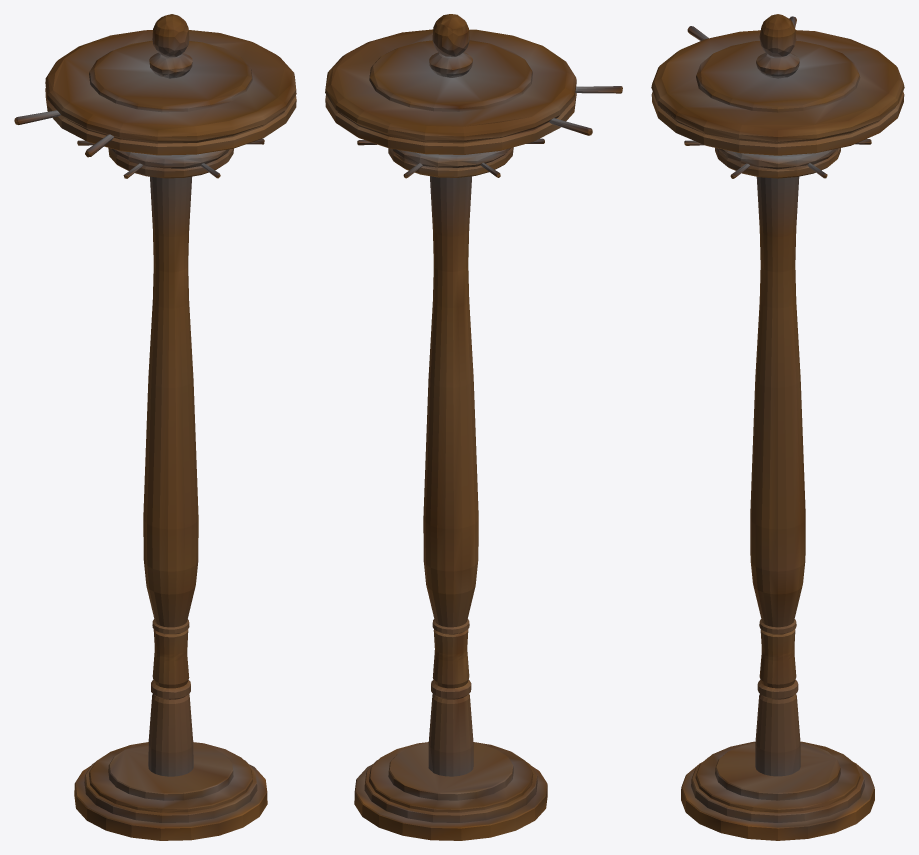
File: gyeongbokgung_manchunjeon_brushholder_7f4f5a8e.glb
3 views of the same model, side by side, from view 1: azimuth 30°, elevation 25°; view 2: azimuth 150°, elevation 25°; view 3: azimuth 270°, elevation 25° (orthographic).
Parts seen in each view (by area): view 1: sidestick_M_MCJ_BrushHolder_0; view 2: sidestick_M_MCJ_BrushHolder_0; view 3: sidestick_M_MCJ_BrushHolder_0.
Boxes of the visible parts, x1,y1,x2,y2 form: sidestick_M_MCJ_BrushHolder_0: [14, 14, 296, 840]; sidestick_M_MCJ_BrushHolder_0: [325, 14, 622, 840]; sidestick_M_MCJ_BrushHolder_0: [651, 14, 904, 840].
Bounding box in the file's own units: 0.161 × 0.4683 × 0.1371.
